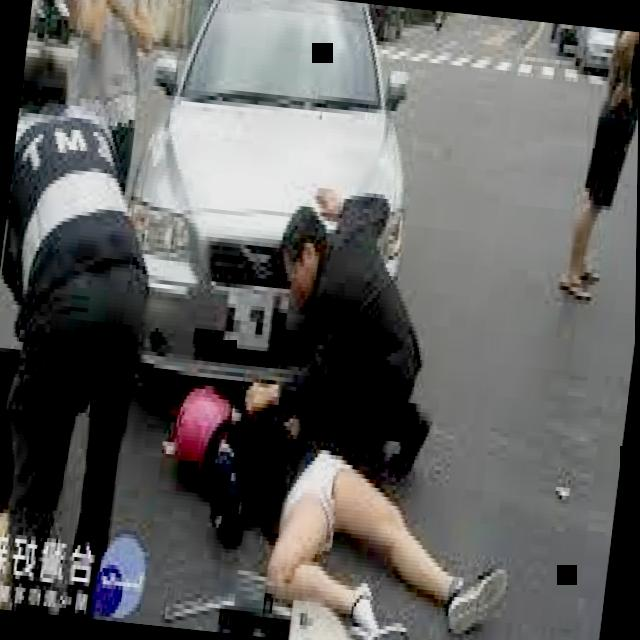Fall-Detected: (158, 347, 549, 640)
